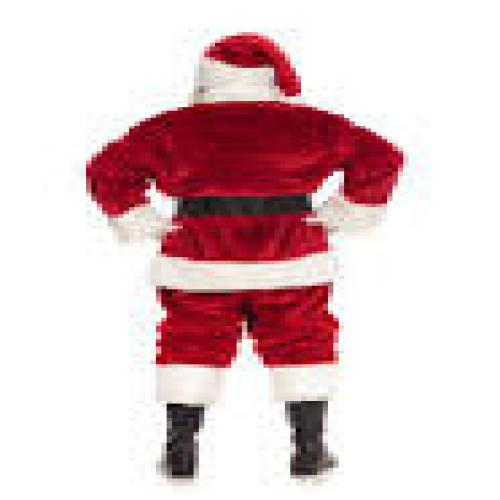Santa: (77, 30, 414, 491)
